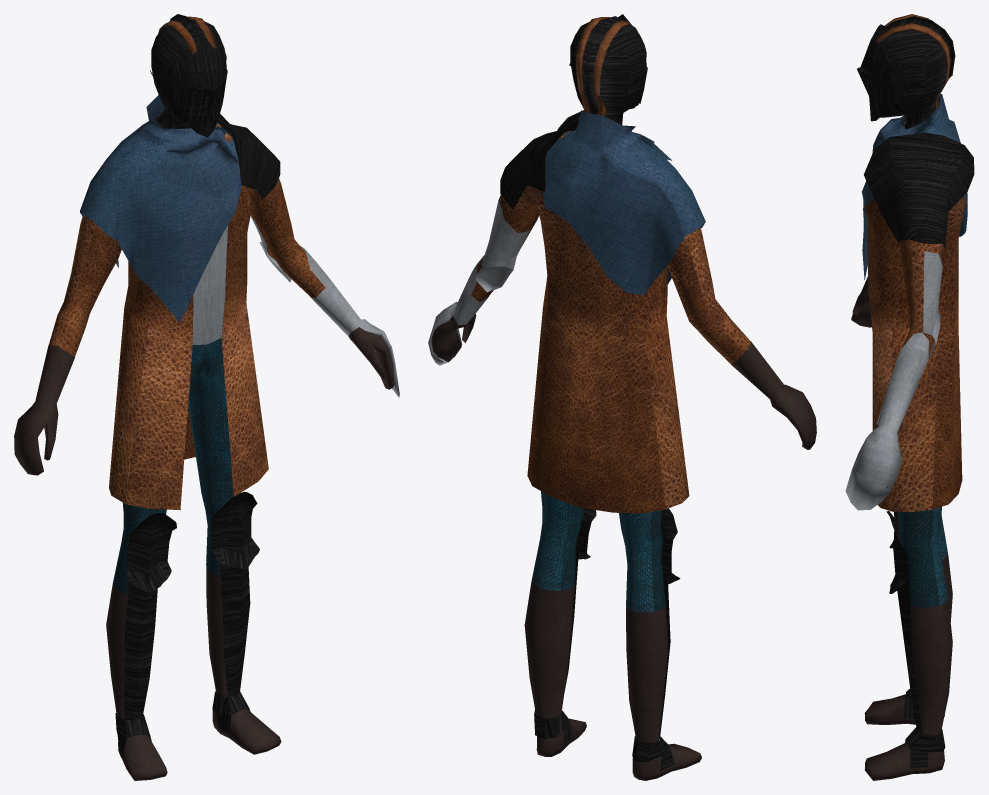
Rendered from personaje_blocking.fbx.
The picture shows the model from 3 angles, left to right: view 1: azimuth 30°, elevation 25°; view 2: azimuth 150°, elevation 25°; view 3: azimuth 270°, elevation 25°; orthographic projection.
Visible parts, largest first — view 1: Cube.006; view 2: Cube.006; view 3: Cube.006.
Part boxes in pixels (x1=…): Cube.006: x1=14, y1=14, x2=399, y2=780; Cube.006: x1=428, y1=14, x2=816, y2=780; Cube.006: x1=845, y1=14, x2=974, y2=780.
Size of the model in its own units: 836 by 1573 by 252.
Materials: 13 (13 with a texture image).
